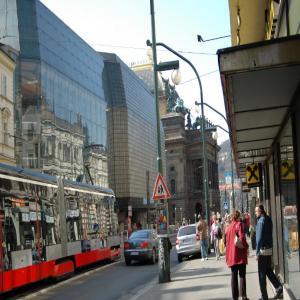Vehicle-registration-plate: (182, 238, 192, 249), (130, 251, 140, 258)
